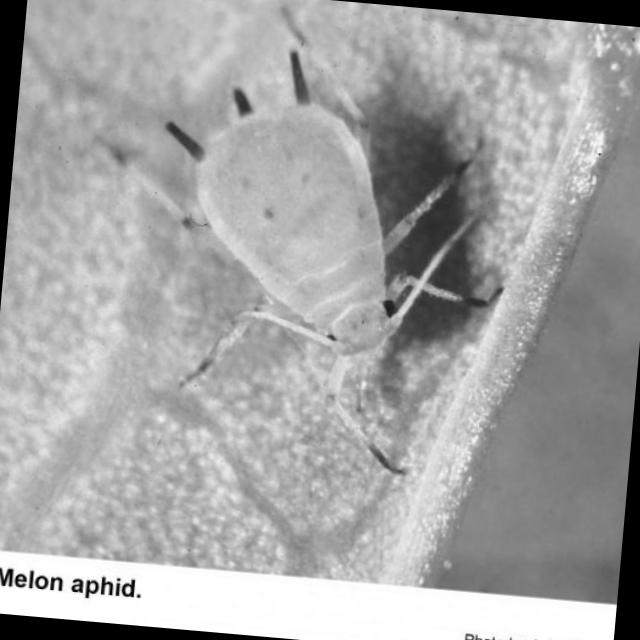Aphids: (106, 25, 554, 503)
